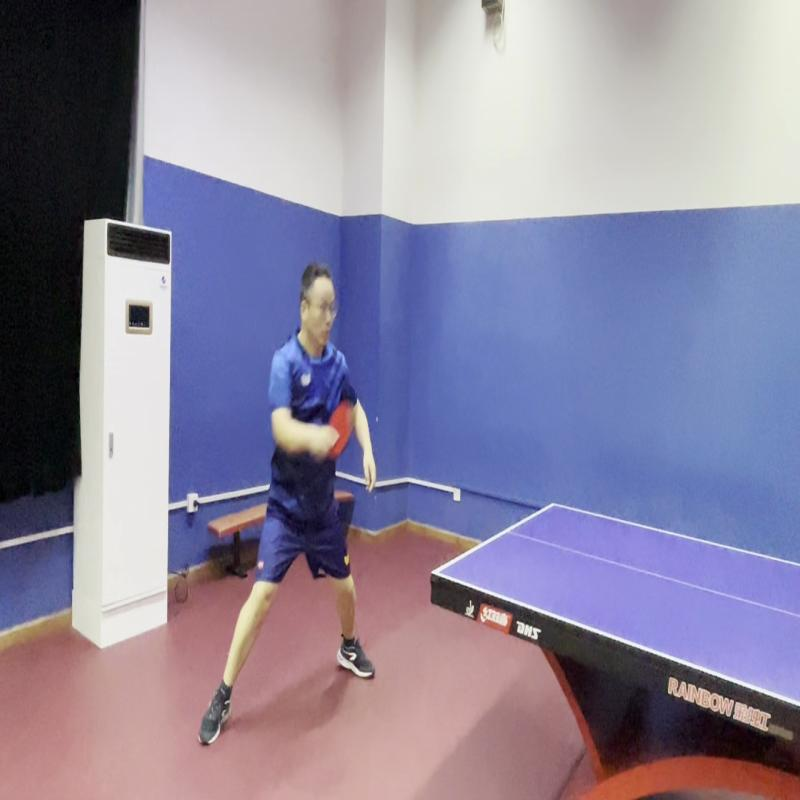bats: (322, 397, 361, 466)
